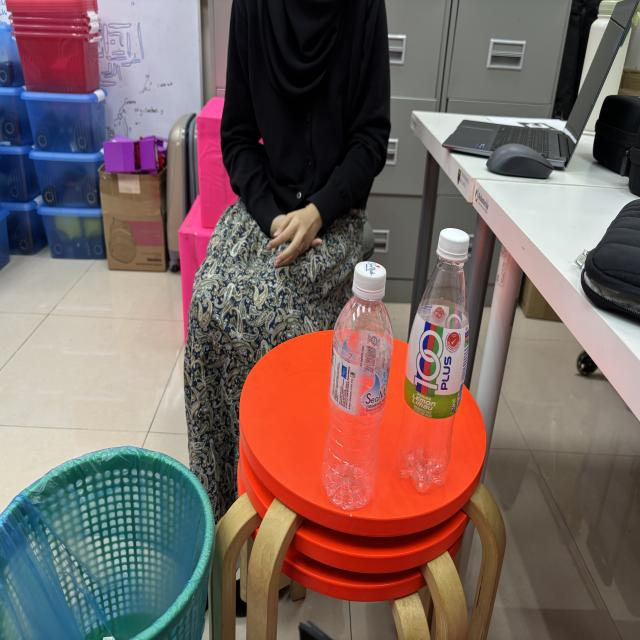dustbin: (0, 436, 217, 640)
plastic_bottle: (395, 210, 473, 502), (322, 248, 396, 520)
